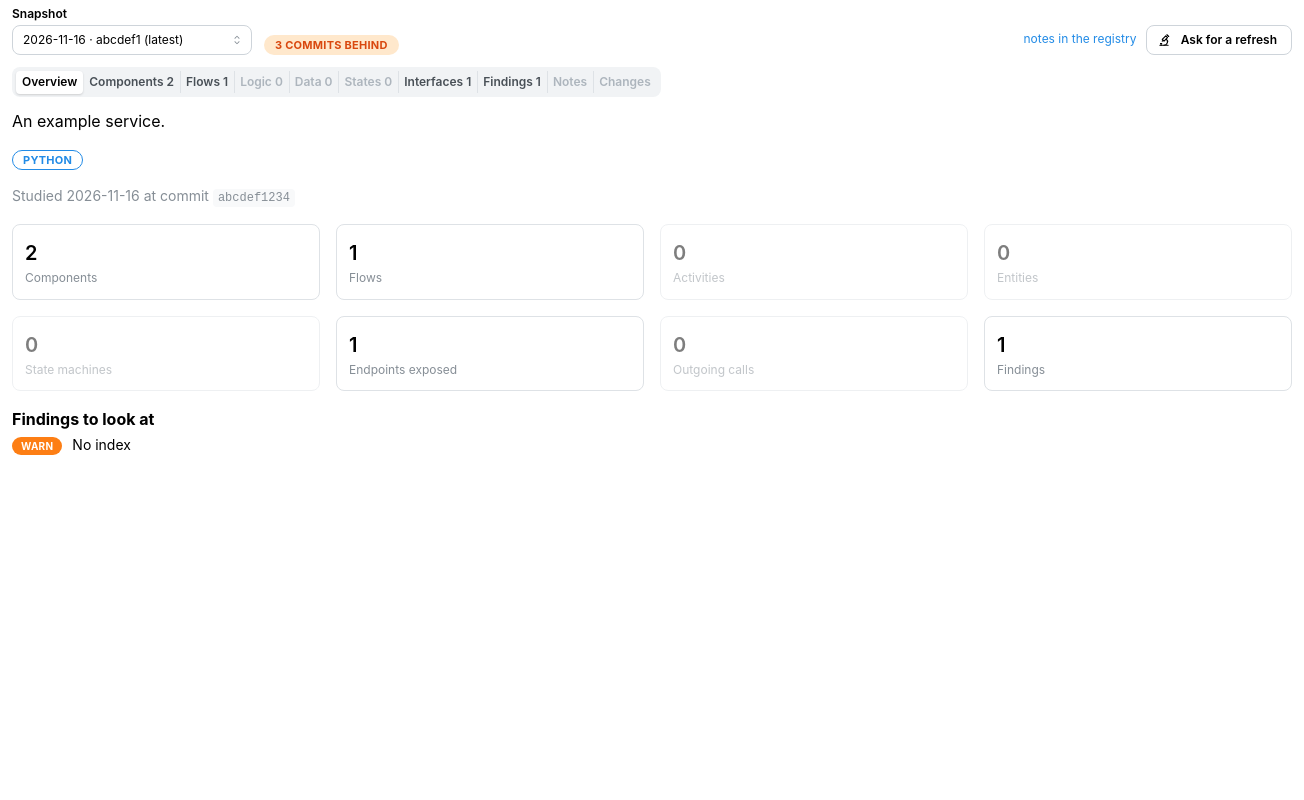
Test case: StudyTab › shows the overview, staleness and the generated diagrams
Later steps or results of the test are not shown.
Expected: the text "An example service." is shown, [12,111,165,131]
Expected: the text "3 commits behind" is shown, [275,36,388,54]
What coordinates should you click on to do the following:
click the text "Components 2"
I would click on:
 (132, 81)
Its box is [89,74,174,89].
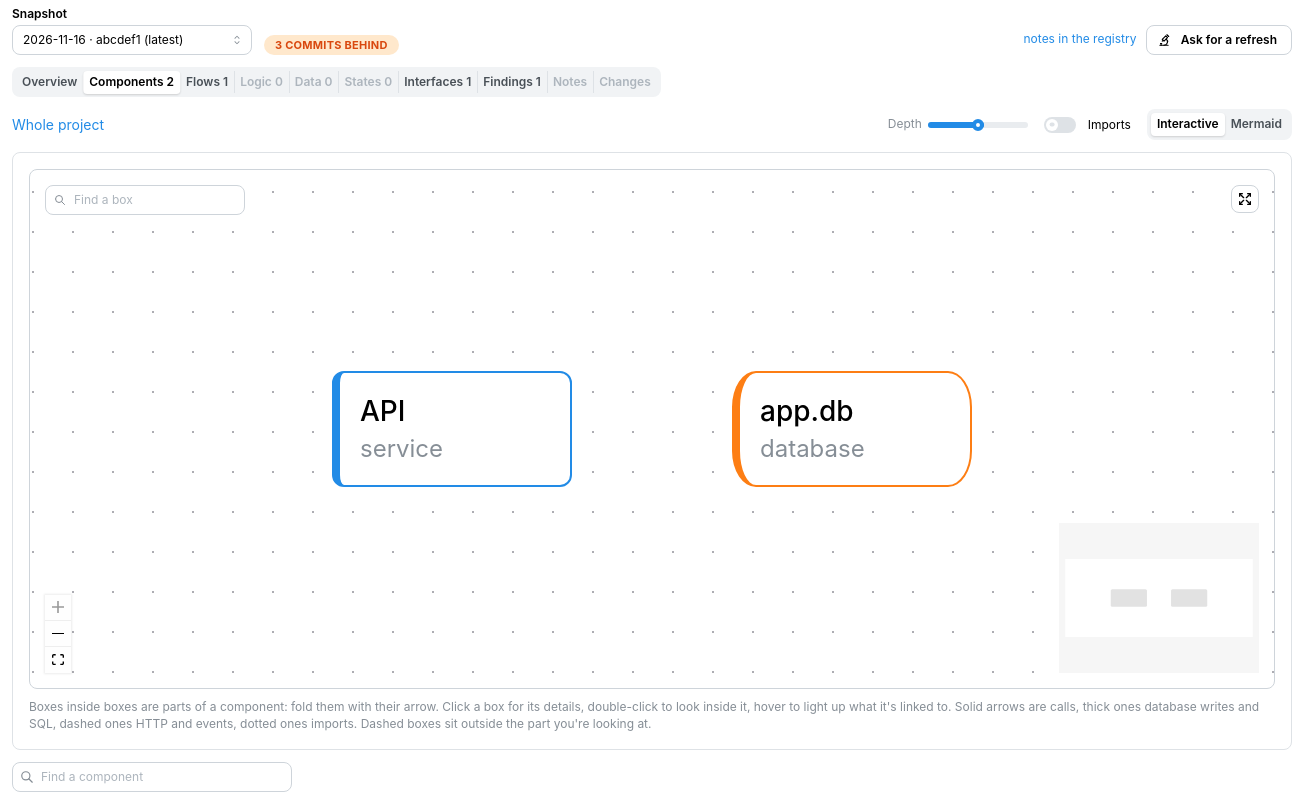
Result: the element showing "app.db database" is shown at [732,371,972,487]
